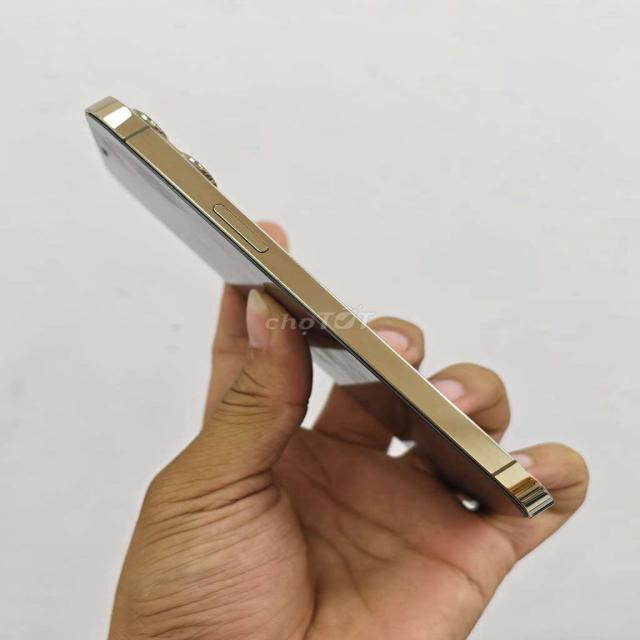gen_12_13: (83, 90, 556, 524)
